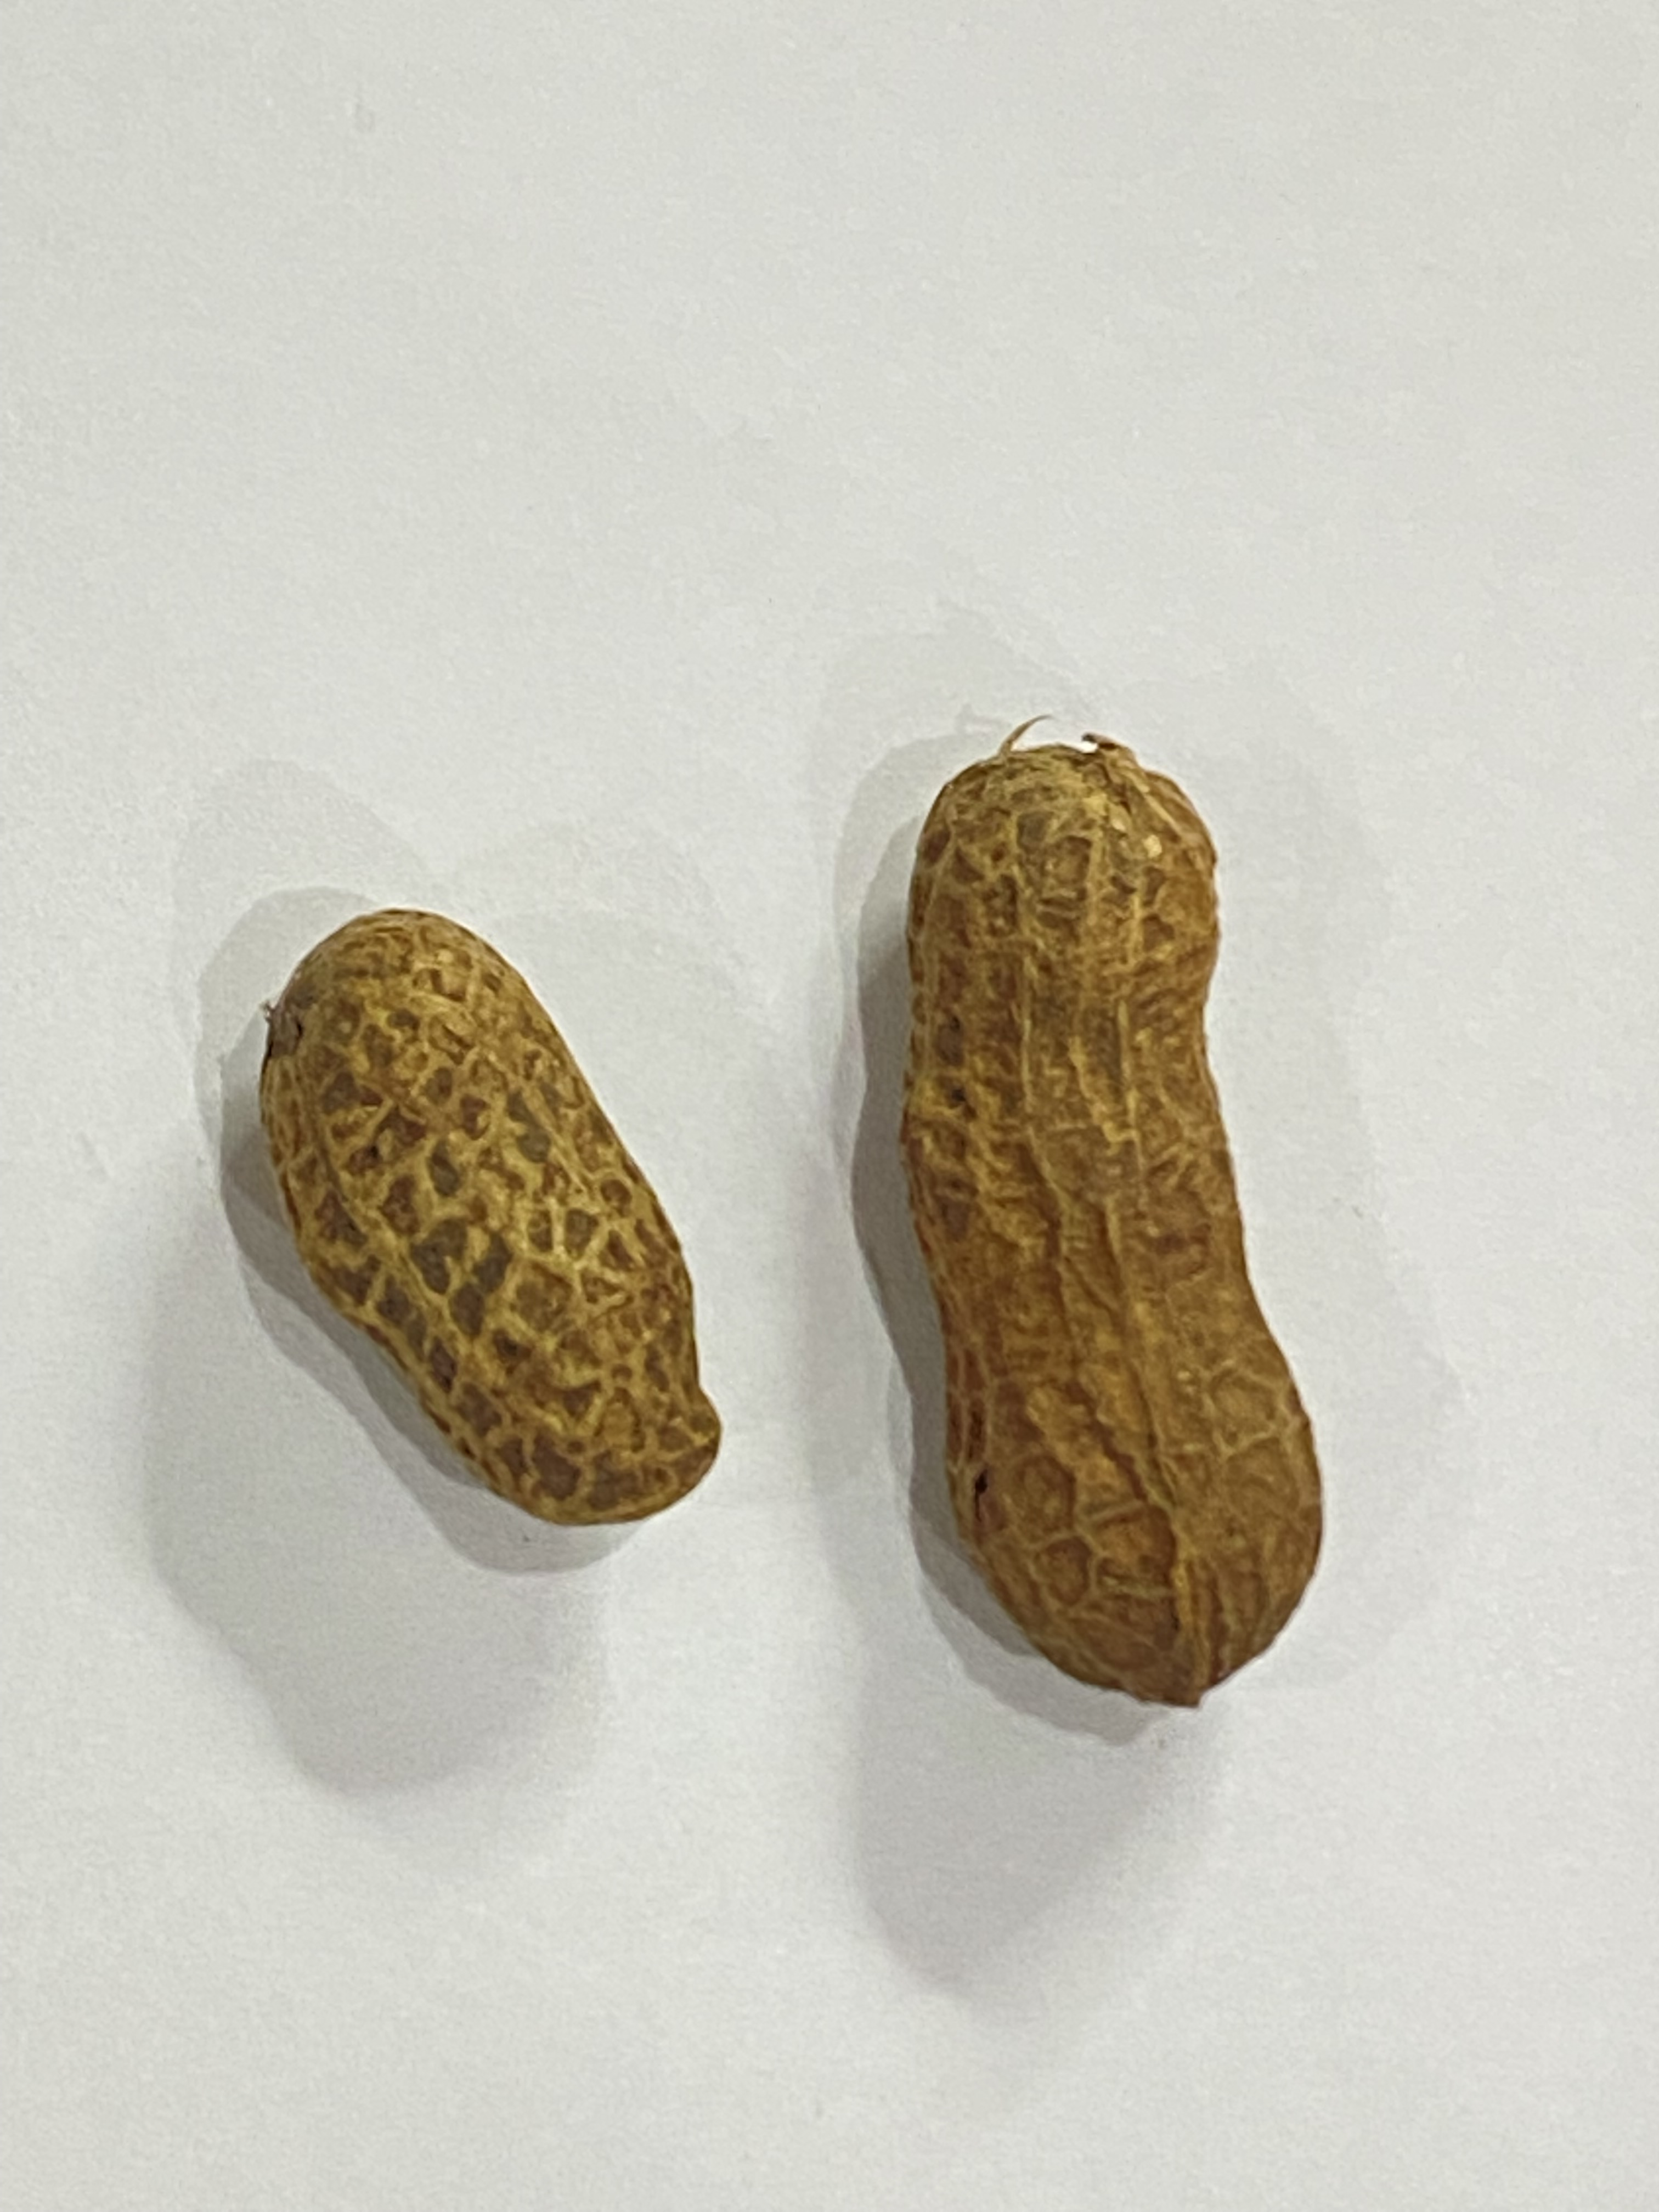kacang2: (211, 900, 728, 1534)
kacang3: (896, 719, 1328, 1716)
